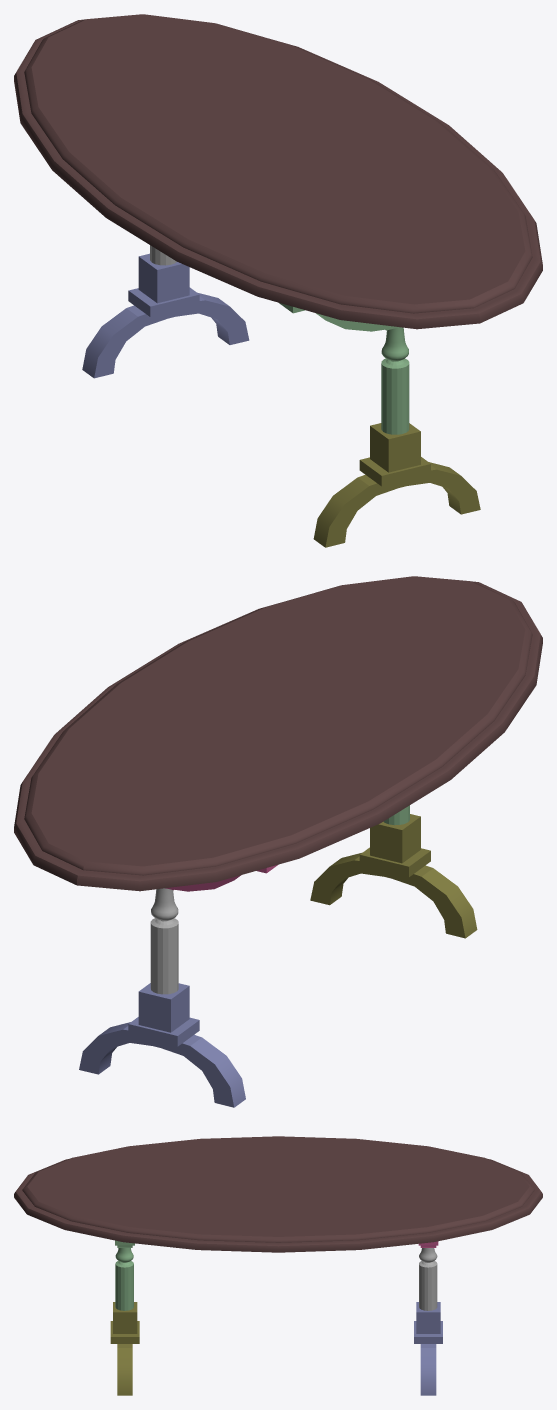
Rendered from Chall2.Table.MapExport.fbx.
The picture shows the model from 3 angles, top to bottom: view 1: azimuth 30°, elevation 25°; view 2: azimuth 150°, elevation 25°; view 3: azimuth 270°, elevation 25°; orthographic projection. The views are drawn at different scales.
Parts seen in each view (by area): view 1: pCube18; view 2: pCube18; view 3: pCube18.
Boxes of the visible parts, <box> form: pCube18: <box>14,14,542,547</box>; pCube18: <box>14,576,542,1107</box>; pCube18: <box>14,1136,542,1395</box>.
Size of the model in its own units: 10.66 by 8.27 by 21.6.
